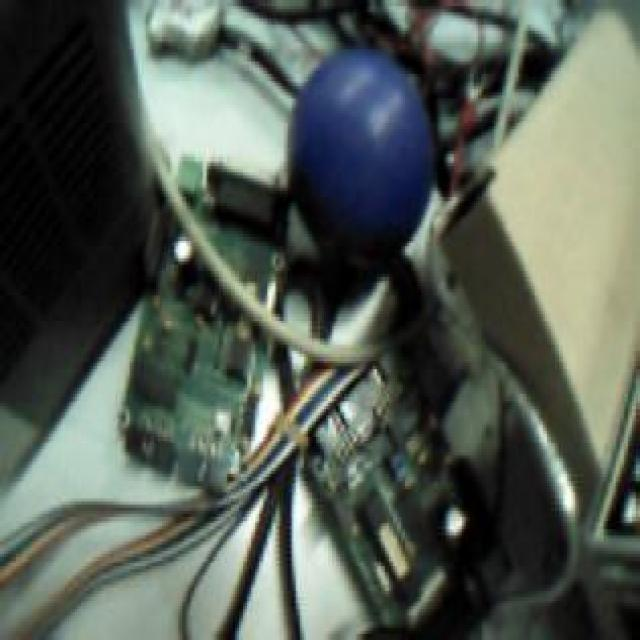BallPurple: (292, 43, 434, 268)
